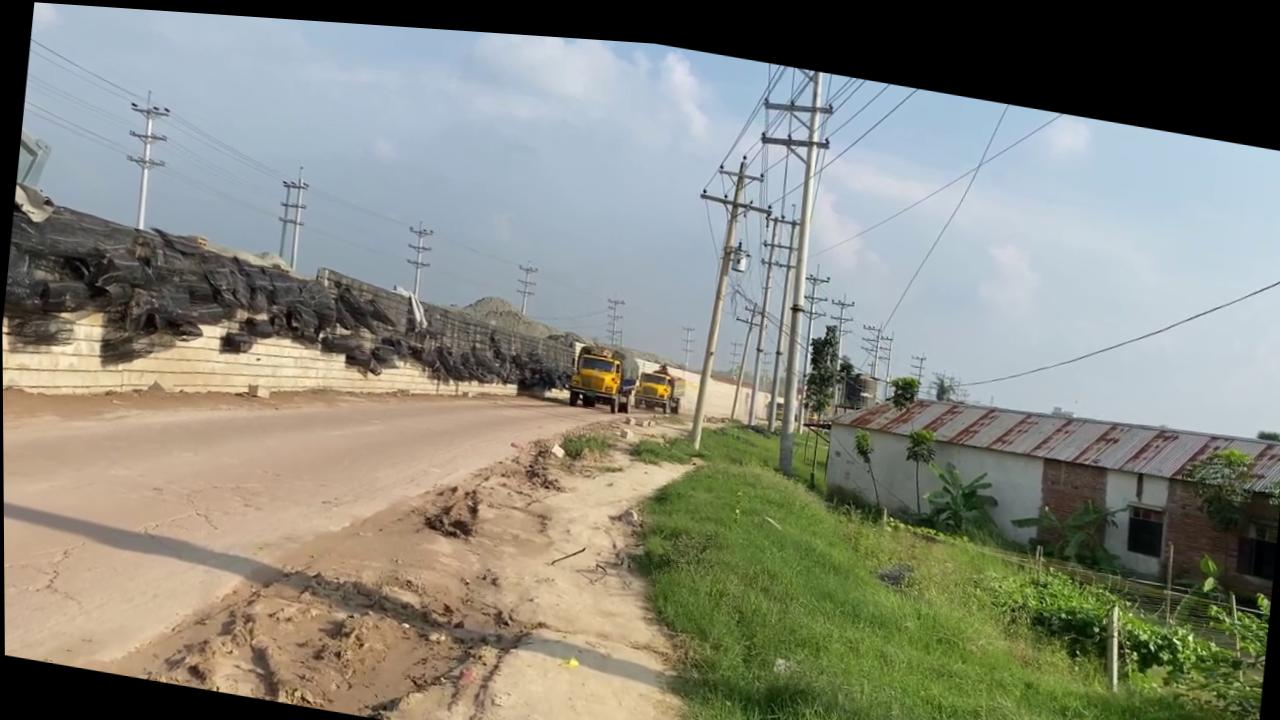Garbage: (1, 181, 587, 416)
Muddy road: (2, 275, 739, 720)
Pole: (724, 49, 840, 465), (672, 134, 778, 450), (767, 56, 837, 467)
Tree: (564, 331, 636, 407), (630, 348, 687, 407)
